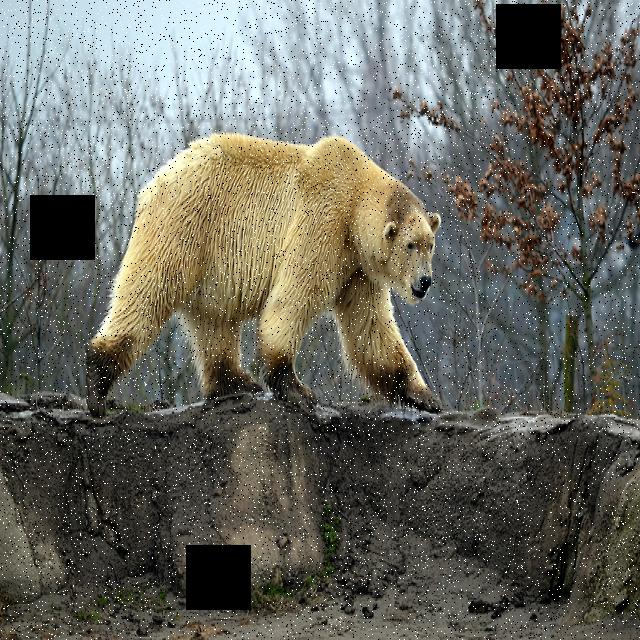Bear: (78, 127, 454, 419)
